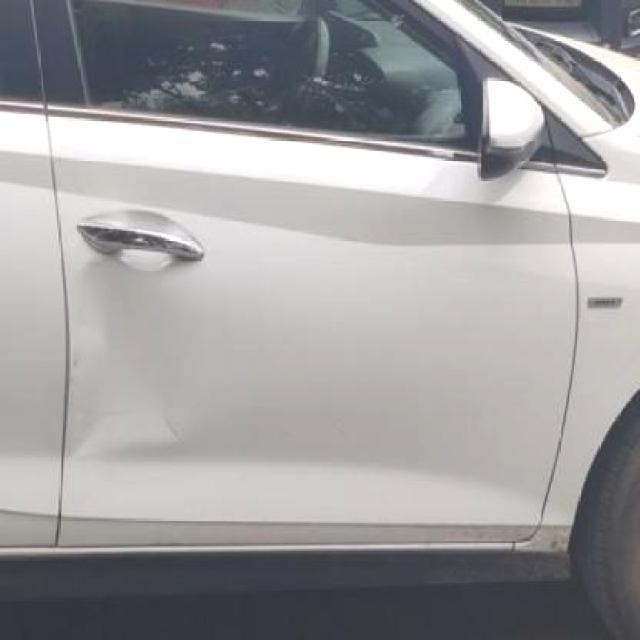minor: (75, 257, 222, 458)
